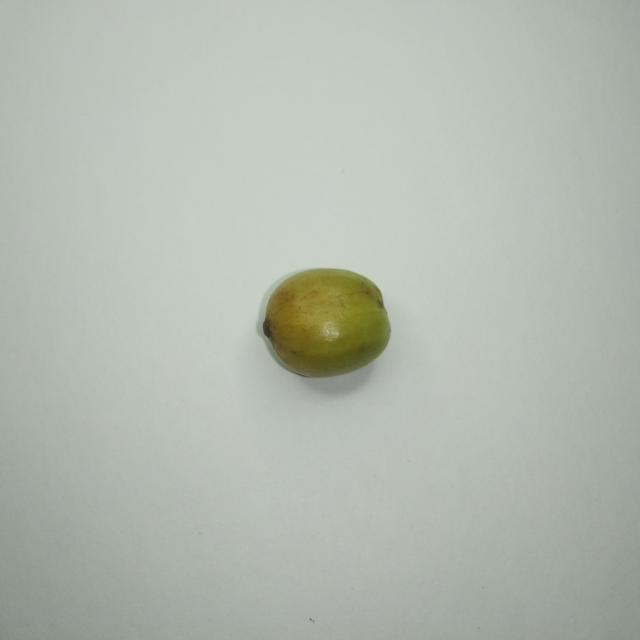Sano: (258, 268, 389, 376)
